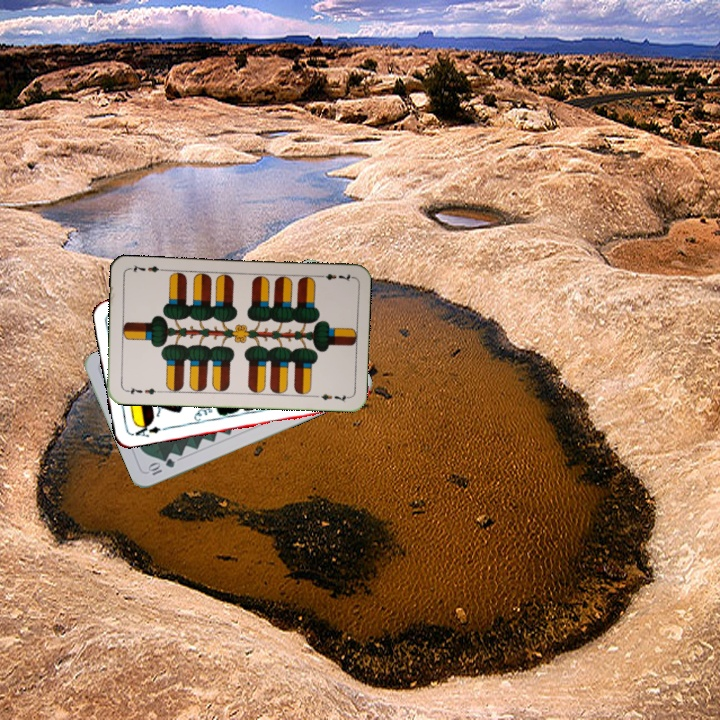E7: (122, 383, 162, 397), (314, 270, 354, 283)
EA: (128, 419, 163, 440)
G10: (144, 454, 177, 478)
